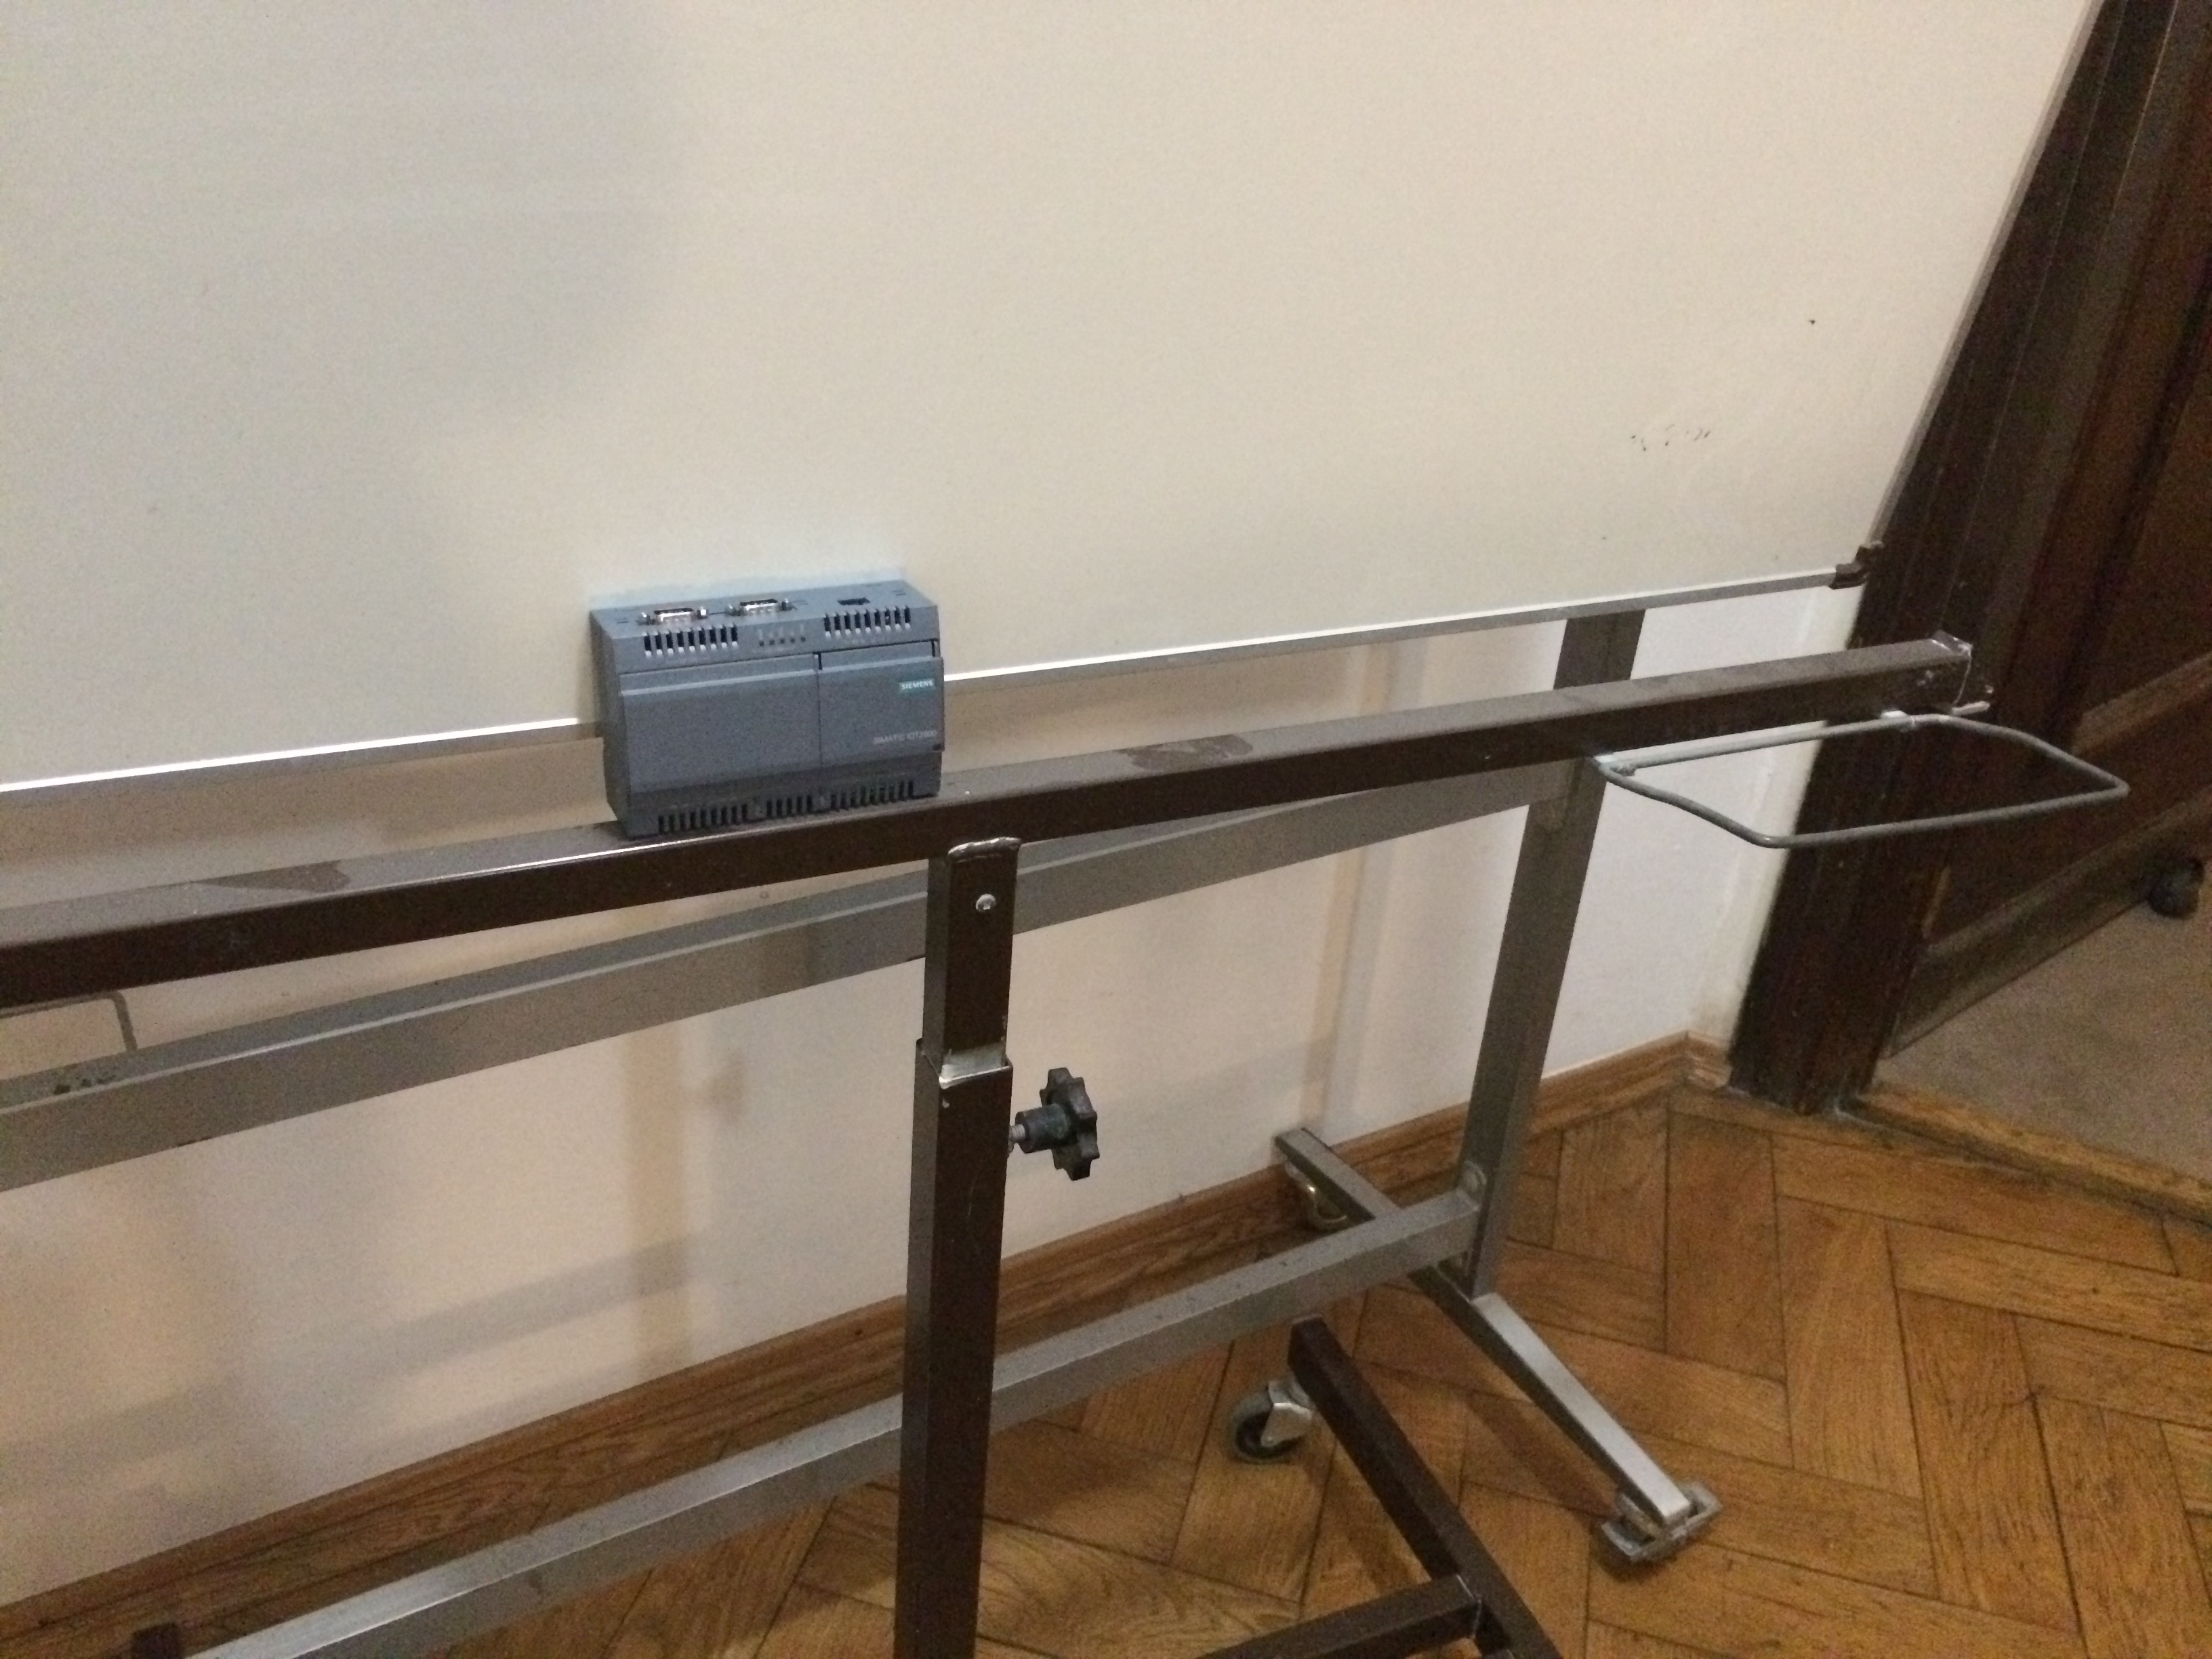iot2000: (587, 575, 949, 845)
